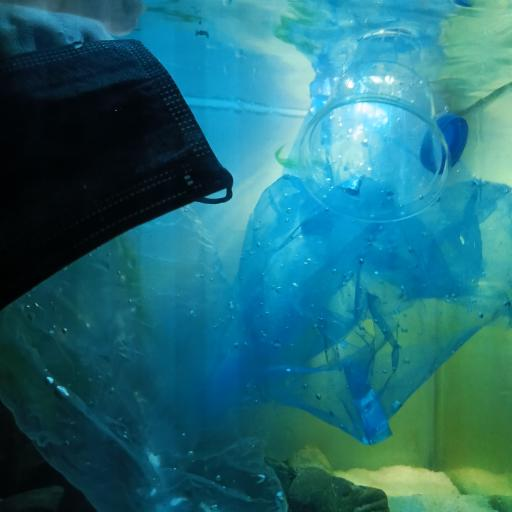bottle_cap: (421, 112, 468, 172)
mask: (0, 36, 233, 311)
plastic_bag: (0, 101, 287, 511), (240, 30, 512, 447)
plastic_cup: (294, 35, 452, 226)
